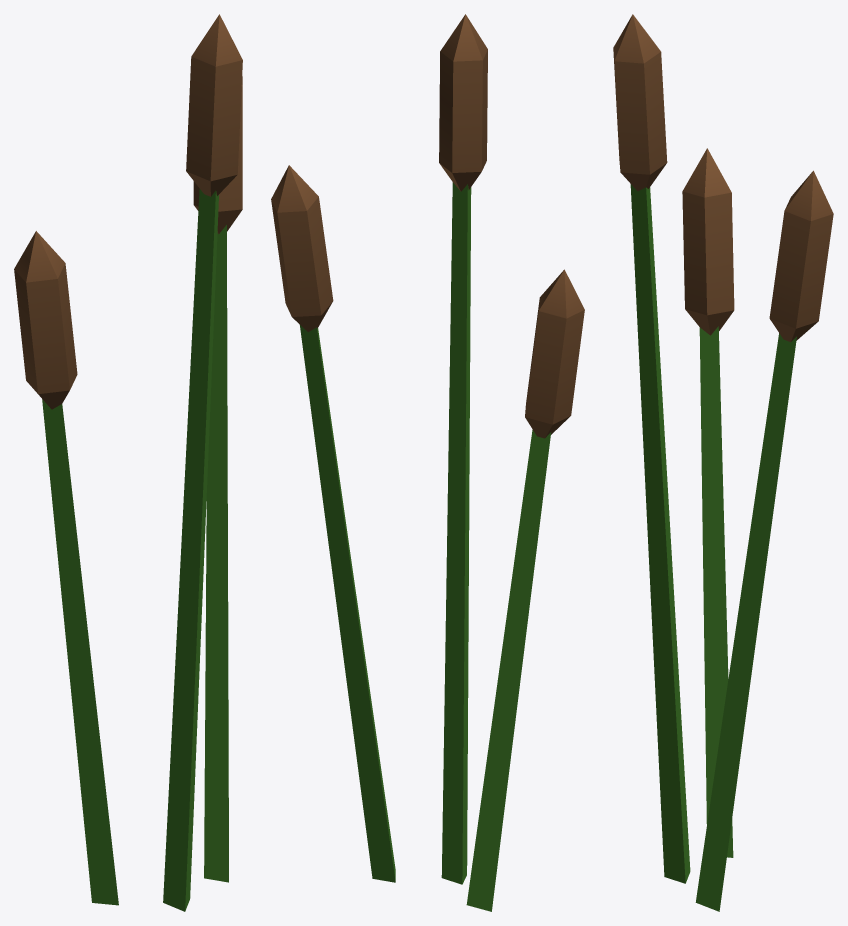
Rendered from cattail.glb.
3 views of the same model, side by side, from view 1: azimuth 30°, elevation 25°; view 2: azimuth 150°, elevation 25°; view 3: azimuth 270°, elevation 25° (orthographic). The views are drawn at different scales.
Parts seen in each view (by area): view 1: Cattail; view 2: Cattail; view 3: Cattail.
Part boxes in pixels (x1,y1,x2,y2): Cattail: (14, 14, 242, 911); Cattail: (271, 14, 584, 911); Cattail: (613, 14, 833, 911).
Bounding box in the file's own units: 0.4214 × 1.32 × 0.3024.
